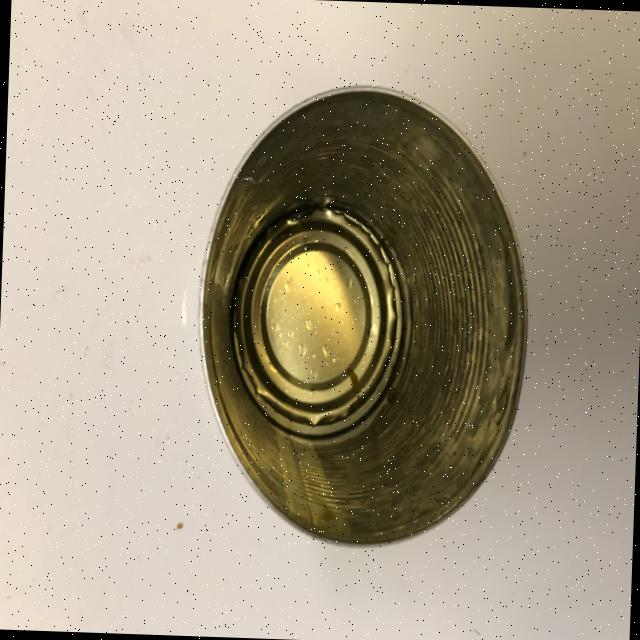metal: (191, 78, 535, 551)
